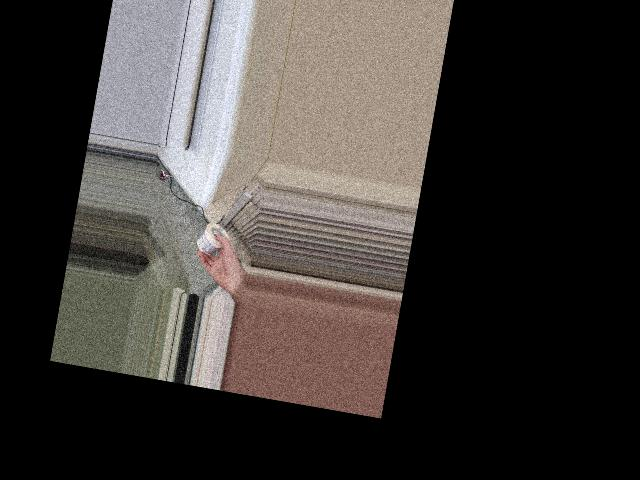cotage: (194, 221, 229, 259)
